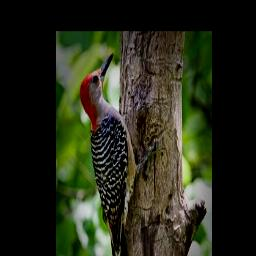Woodpecker: (73, 48, 167, 256)
